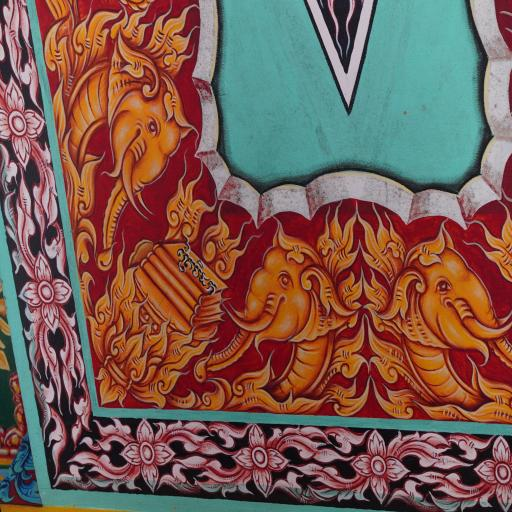hoa: (229, 418, 287, 497), (0, 70, 44, 170), (349, 424, 405, 502), (16, 249, 74, 324), (124, 417, 172, 489), (480, 436, 512, 512)
la: (168, 418, 240, 500), (31, 310, 89, 403), (71, 402, 133, 489), (391, 415, 481, 469), (0, 0, 49, 97), (32, 156, 70, 277), (4, 180, 42, 280), (401, 468, 485, 512), (283, 458, 356, 508), (282, 420, 360, 465), (38, 384, 62, 477)
